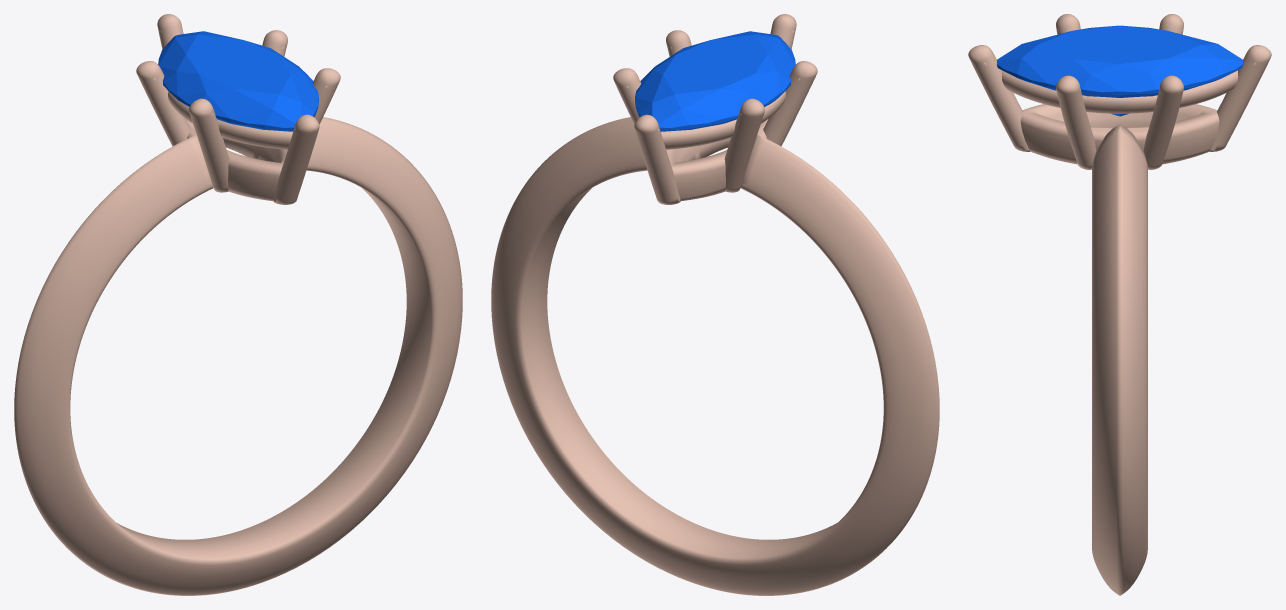
Rendered from bluesapphire-marquise-rosegold-6prong-knifeedge-nosidestones.glb.
3 views of the same model, side by side, from view 1: azimuth 30°, elevation 25°; view 2: azimuth 150°, elevation 25°; view 3: azimuth 270°, elevation 25° (orthographic).
Visible parts, largest first — view 1: metal.004, stone; view 2: metal.004, stone; view 3: metal.004, stone.
Boxes of the visible parts, x1,y1,x2,y2 form: metal.004: (14,14,462,595); stone: (158,31,318,131); metal.004: (491,14,939,595); stone: (635,31,795,131); metal.004: (968,14,1271,595); stone: (997,25,1242,116).
Size of the model in its own units: 20.49 by 22.93 by 11.96.
